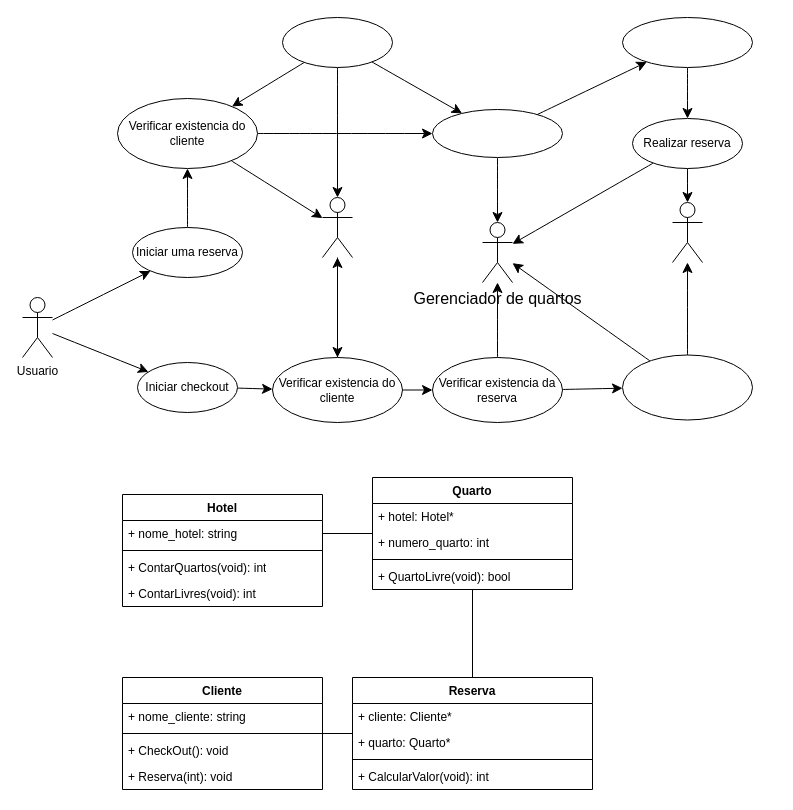
Image size: 793x810. Some labels were removed from this diagram. The centre of each missing label's shape, as x and y in pixels:
"Cadastrar cliente" belongs at pixel 337 42.
"Gerenciador de clientes" belongs at pixel 337 227.
"Gerenciador de reservas" belongs at pixel 687 232.
"Liberar quarto" belongs at pixel 687 387.
"Selecionar quarto" belongs at pixel 687 42.
"Verificar disponibilidade" belongs at pixel 497 133.
